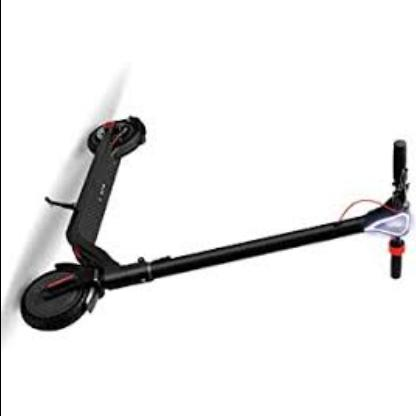bike: (20, 116, 414, 333)
